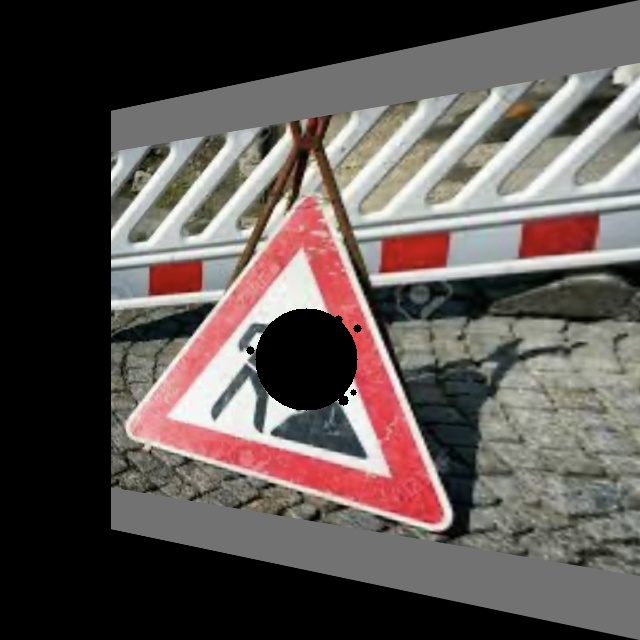Men_at_Work: (157, 190, 456, 534)
